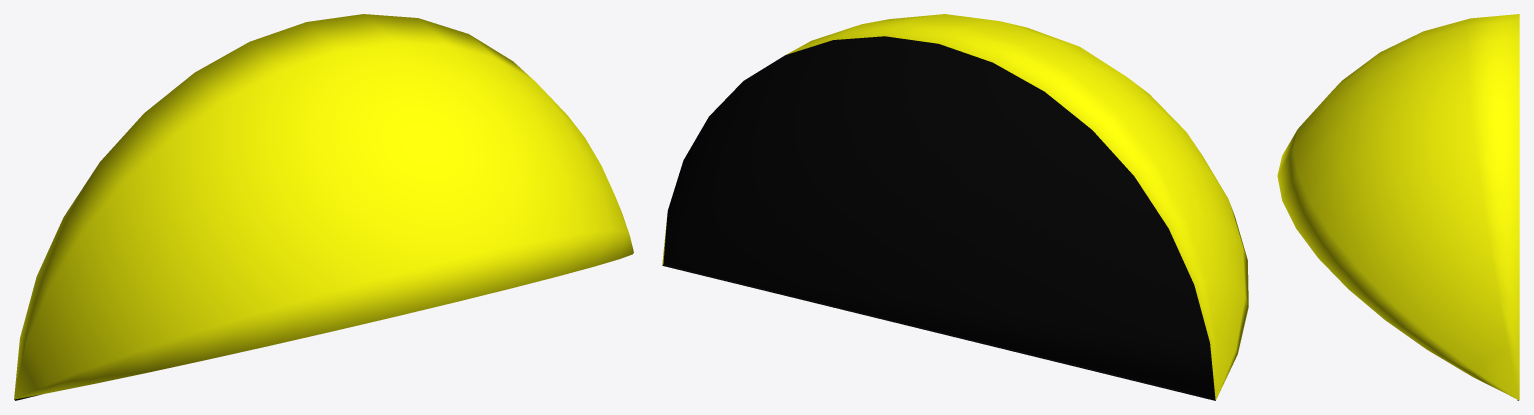
File: pacmanMouthPiece.fbx
3 views of the same model, side by side, from view 1: azimuth 30°, elevation 25°; view 2: azimuth 150°, elevation 25°; view 3: azimuth 270°, elevation 25° (orthographic). The views are drawn at different scales.
Parts seen in each view (by area): view 1: Sphere; view 2: Sphere; view 3: Sphere.
Boxes of the visible parts, box(x1,y1,x2,y2) form: Sphere: box(14, 14, 633, 400); Sphere: box(662, 14, 1248, 400); Sphere: box(1277, 14, 1519, 400).
Bounding box in the file's own units: 200 × 100 × 89.23.
